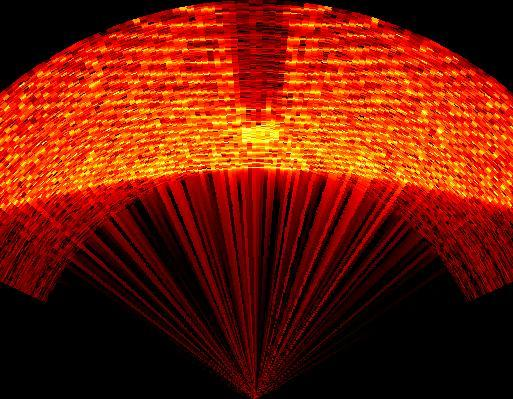box_crate: (220, 4, 286, 124)
